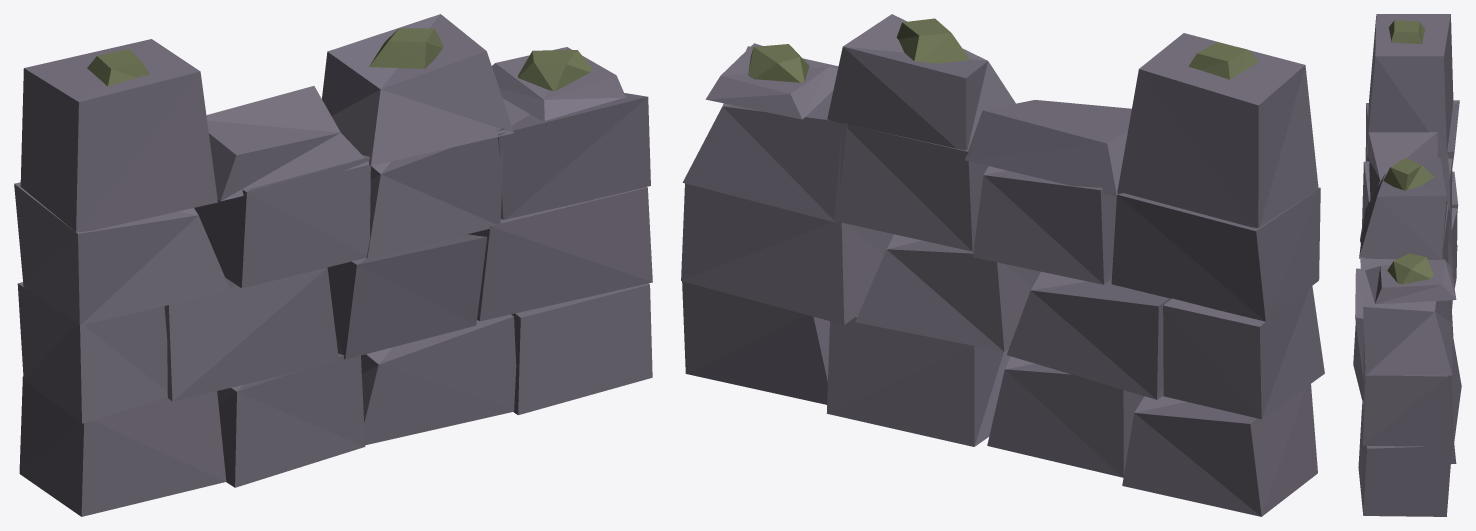
The model's file is CR_BrokenWall.fbx.
3 views of the same model, side by side, from view 1: azimuth 30°, elevation 25°; view 2: azimuth 150°, elevation 25°; view 3: azimuth 270°, elevation 25° (orthographic). The views are drawn at different scales.
Parts seen in each view (by area): view 1: CR_BrokenWall_Stone, CR_BrokenWall_Moss; view 2: CR_BrokenWall_Stone, CR_BrokenWall_Moss; view 3: CR_BrokenWall_Stone, CR_BrokenWall_Moss.
Part boxes in pixels (x1,y1,x2,y2): CR_BrokenWall_Stone: (14,14,652,516); CR_BrokenWall_Moss: (87,28,592,91); CR_BrokenWall_Stone: (681,14,1324,516); CR_BrokenWall_Moss: (748,18,1258,82); CR_BrokenWall_Stone: (1353,14,1461,516); CR_BrokenWall_Moss: (1383,20,1434,284).
Size of the model in its own units: 13.9 by 9.78 by 3.1.
